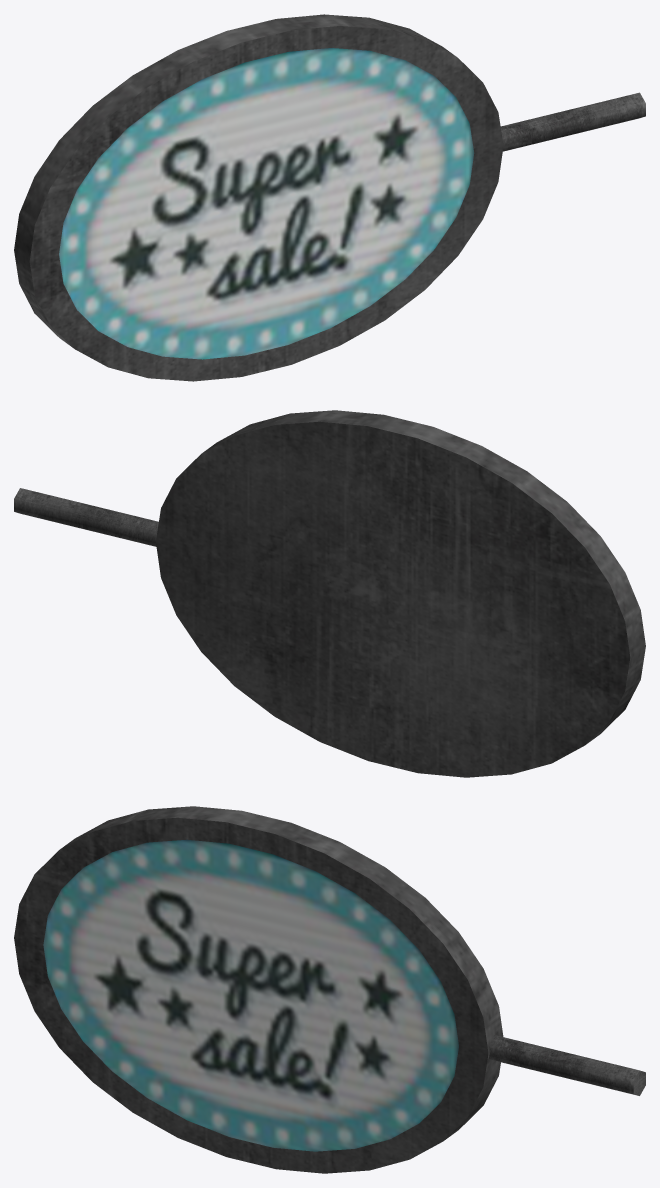
Rendered from sign board28.FBX.
3 renders of one model, top to bottom at view 1: azimuth 30°, elevation 25°; view 2: azimuth 150°, elevation 25°; view 3: azimuth 330°, elevation 25°, orthographic.
Parts seen in each view (by area): view 1: sign board28; view 2: sign board28; view 3: sign board28.
Part boxes in pixels (x1,y1,x2,y2): sign board28: (14,14,645,381); sign board28: (14,410,645,777); sign board28: (14,806,645,1173).
Bounding box in the file's own units: 20.1 × 10.4 × 0.882.
